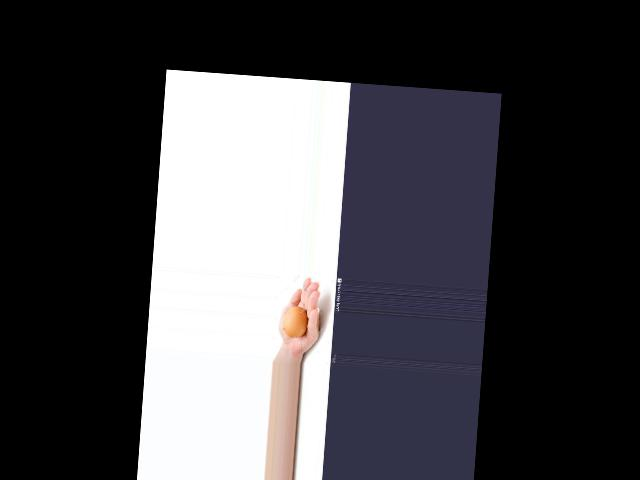egg: (281, 306, 308, 339)
